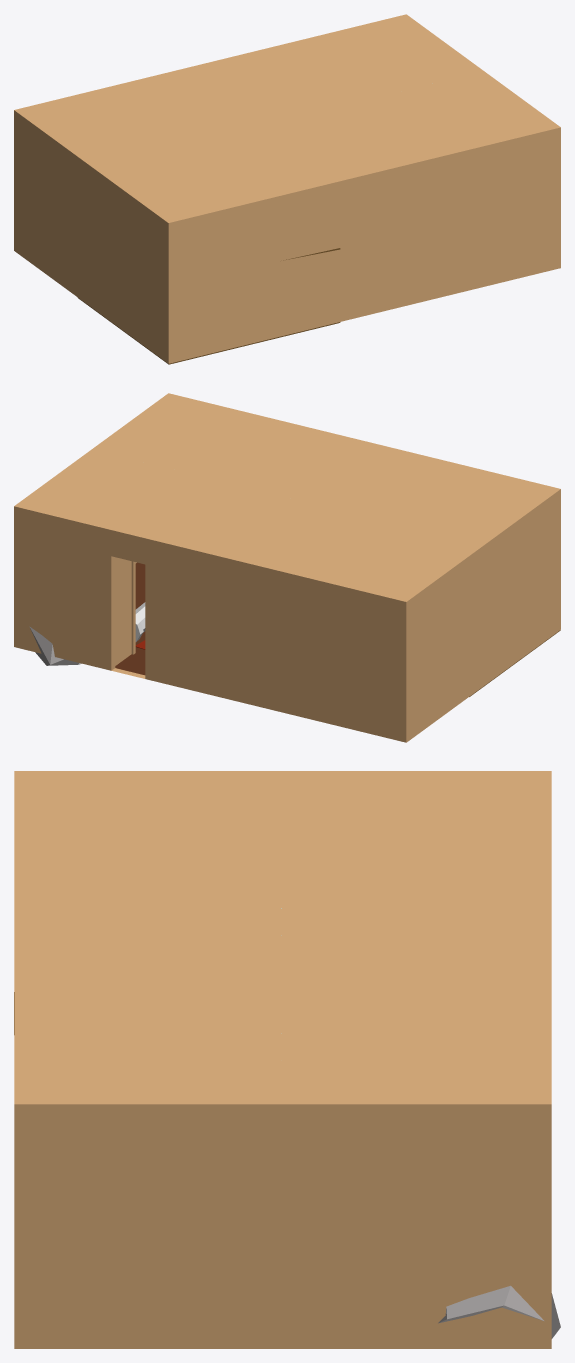
Rendered from S_Labo.glb.
The picture shows the model from 3 angles, top to bottom: view 1: azimuth 30°, elevation 25°; view 2: azimuth 150°, elevation 25°; view 3: azimuth 270°, elevation 25°; orthographic projection. The views are drawn at different scales.
Parts seen in each view (by area): view 1: murSansFenetre.002, plafond.002, Cube.043; view 2: murSansFenetre.002, plafond.002, Plane.010, Plane.075, Cube.037, Plane.016; view 3: plafond.002, murSansFenetre.002, Cube.037.
Boxes of the visible parts, <box> form: murSansFenetre.002: <box>14,14,560,363</box>; plafond.002: <box>24,18,550,218</box>; Cube.043: <box>78,248,340,364</box>; murSansFenetre.002: <box>14,393,560,742</box>; plafond.002: <box>23,397,550,597</box>; Plane.010: <box>110,511,133,665</box>; Plane.075: <box>115,562,145,675</box>; Cube.037: <box>29,626,81,665</box>; Plane.016: <box>131,512,171,654</box>; plafond.002: <box>27,776,538,1103</box>; murSansFenetre.002: <box>14,771,551,1348</box>; Cube.037: <box>438,1285,560,1338</box>.
Bounding box in the file's own units: 7.85 × 2.91 × 5.36.
